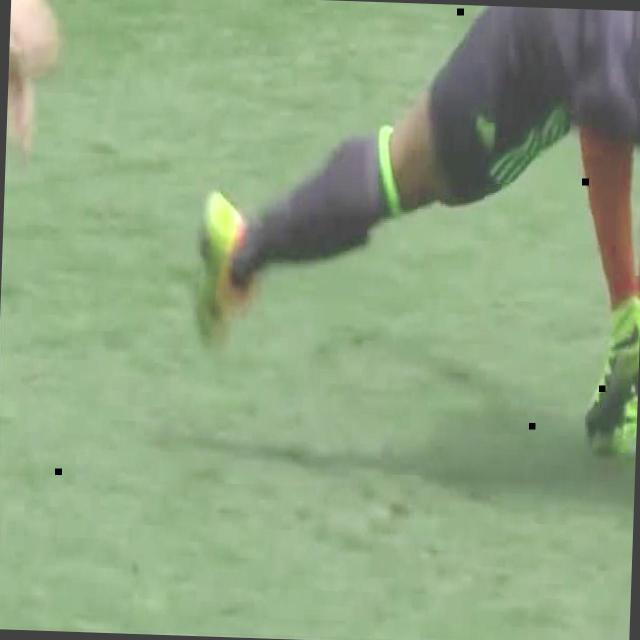player-white: (182, 0, 640, 554), (541, 8, 640, 460)
